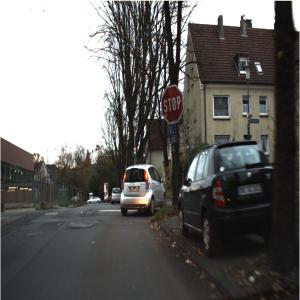STOP: (161, 85, 185, 125)
